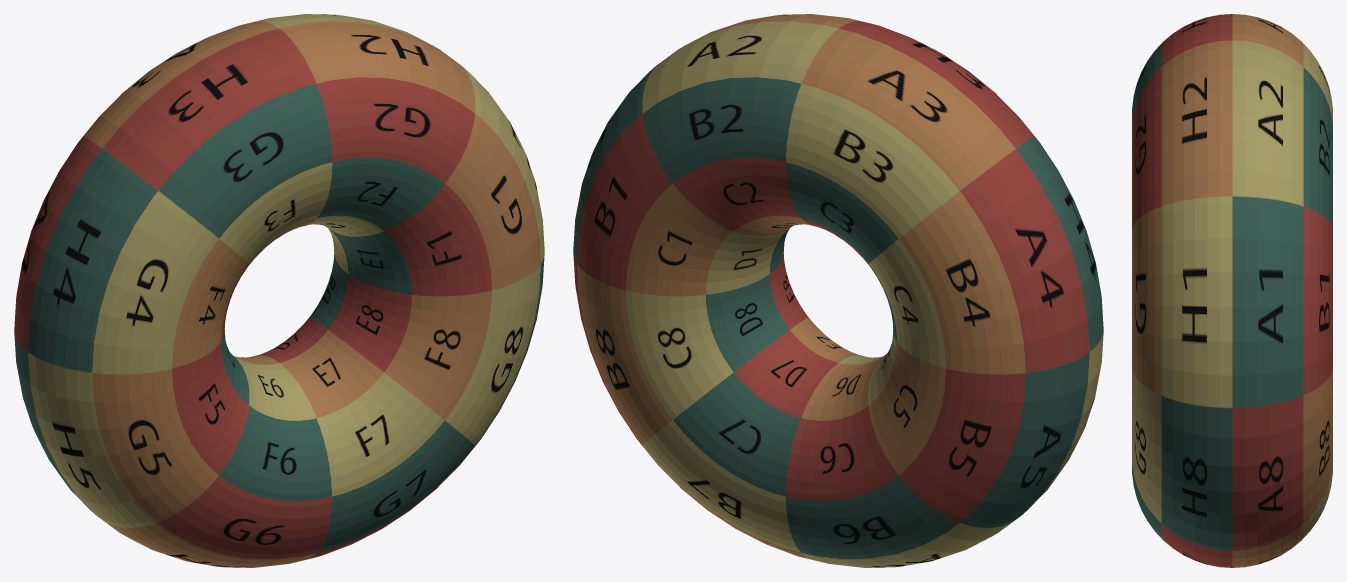
File: texture_torus_R5_r21.glb
3 views of the same model, side by side, from view 1: azimuth 30°, elevation 25°; view 2: azimuth 150°, elevation 25°; view 3: azimuth 270°, elevation 25° (orthographic). The views are drawn at different scales.
Parts seen in each view (by area): view 1: world; view 2: world; view 3: world.
Part boxes in pixels (x1,y1,x2,y2): world: (14,14,544,567); world: (573,14,1103,567); world: (1132,14,1332,567).
Size of the model in its own units: 20.93 by 20.89 by 7.59.
1 material, 1 textured.
